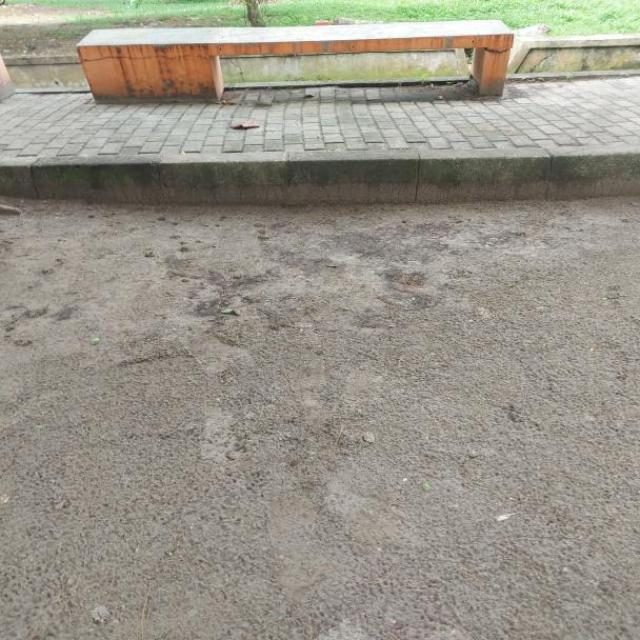bench ahead at: (78, 18, 512, 105)
